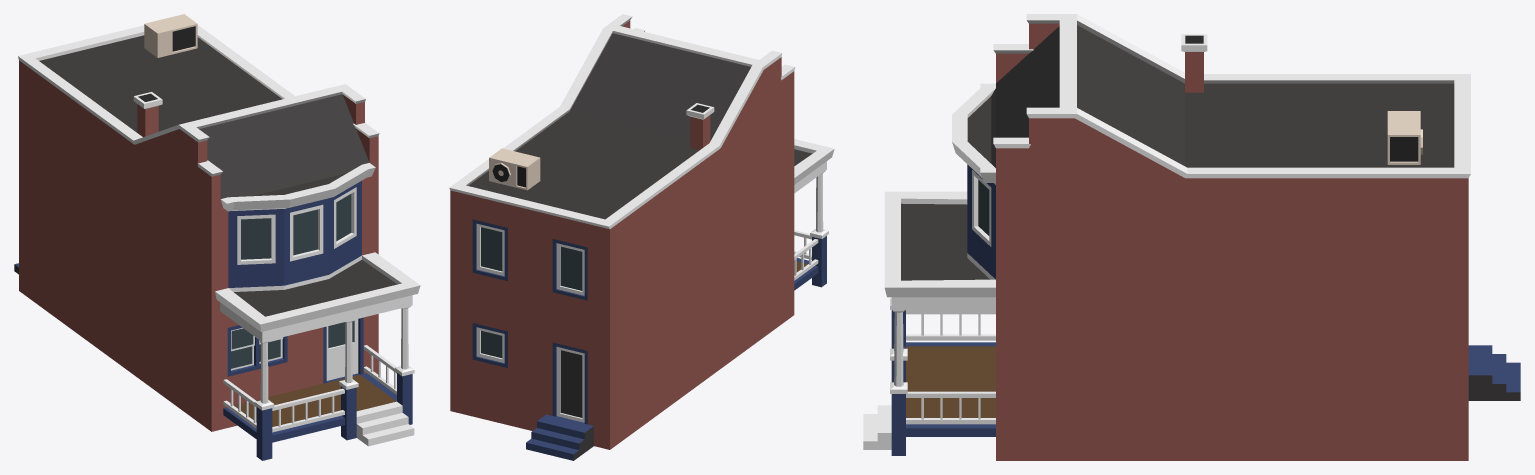
The model's file is buildings_building-house-block-old.fbx.
3 renders of one model, left to right at view 1: azimuth 30°, elevation 25°; view 2: azimuth 150°, elevation 25°; view 3: azimuth 270°, elevation 25°, orthographic. The views are drawn at different scales.
Visible parts, largest first — view 1: buildings_building_house_block_old; view 2: buildings_building_house_block_old; view 3: buildings_building_house_block_old.
Boxes of the visible parts, bbox=[...] form: buildings_building_house_block_old: bbox=[14, 14, 420, 460]; buildings_building_house_block_old: bbox=[449, 14, 834, 460]; buildings_building_house_block_old: bbox=[863, 14, 1520, 460].
Bounding box in the file's own units: 71.93 × 117 × 200.
